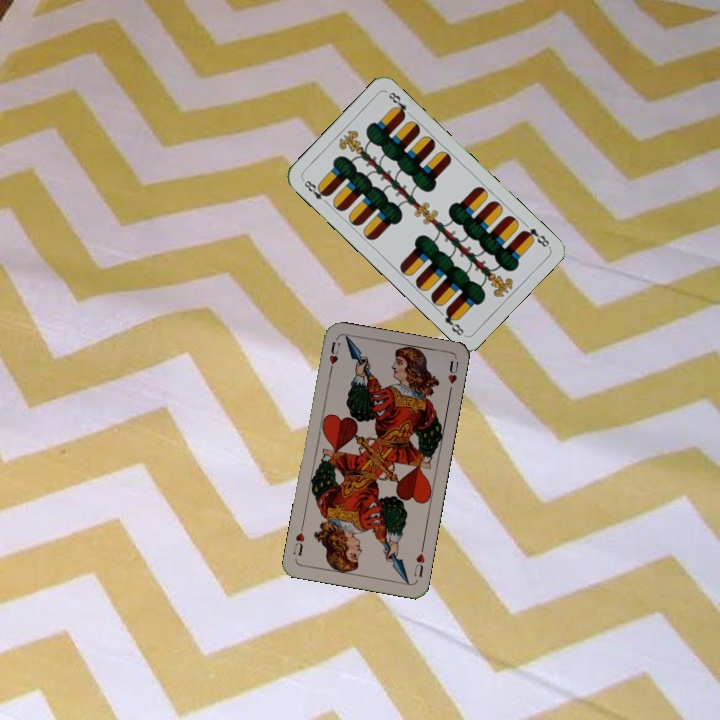E8: (299, 175, 332, 208), (518, 224, 552, 250)
HU: (325, 338, 343, 376), (410, 542, 427, 580)
